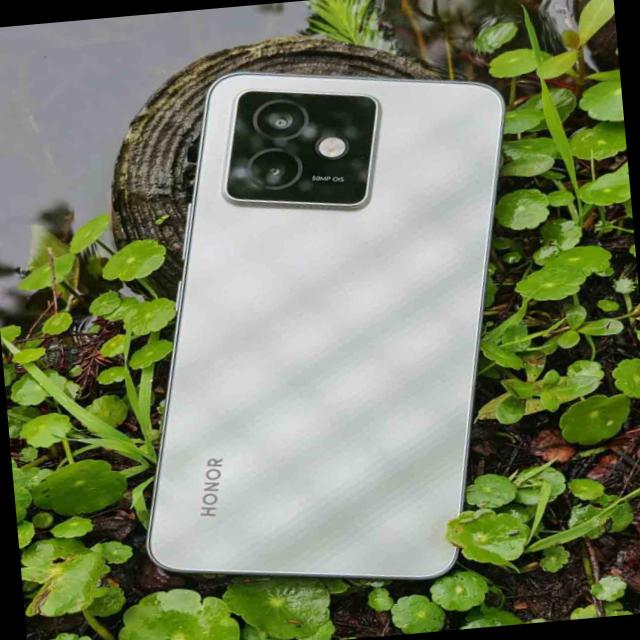mobile_phone: (104, 58, 541, 599)
